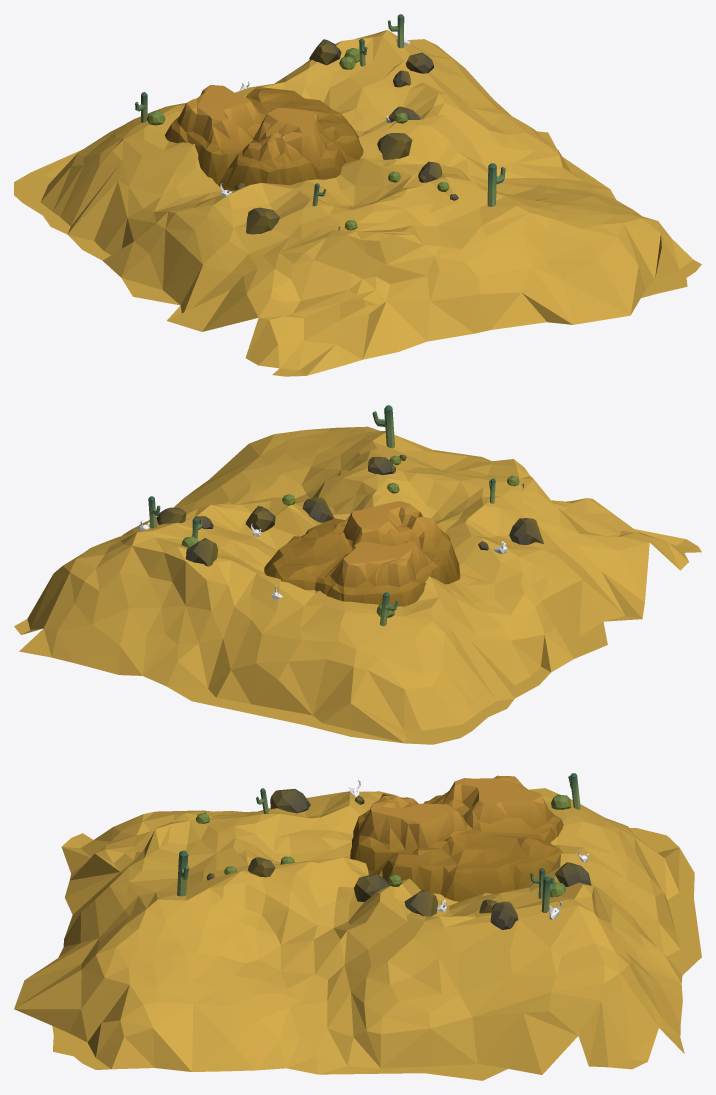
The model's file is Island_desert.fbx.
3 views of the same model, one above another, from view 1: azimuth 30°, elevation 25°; view 2: azimuth 150°, elevation 25°; view 3: azimuth 270°, elevation 25° (orthographic). The views are drawn at different scales.
Visible parts, largest first — view 1: Island_desert, Island_desert|ROCK|Dupli|2.2, Island_desert|ROCK|Dupli|6.2; view 2: Island_desert, Island_desert|ROCK|Dupli|6.2, Island_desert|ROCK|Dupli|3.2, Island_desert|ROCK|Dupli|2.2, Island_desert|ROCK|Dupli|9.2; view 3: Island_desert, Island_desert|ROCK|Dupli|6.2, Island_desert|ROCK|Dupli|9.2, Island_desert|ROCK|Dupli|2.2, Island_desert|ROCK|Dupli|3.2, Island_desert|ROCK|Dupli|5.2.
Boxes of the visible parts, box(x1,y1,x2,y2) form: Island_desert: box(14, 30, 701, 376); Island_desert|ROCK|Dupli|2.2: box(377, 133, 412, 159); Island_desert|ROCK|Dupli|6.2: box(246, 207, 279, 234); Island_desert: box(14, 426, 701, 744); Island_desert|ROCK|Dupli|6.2: box(509, 518, 543, 544); Island_desert|ROCK|Dupli|3.2: box(185, 538, 217, 566); Island_desert|ROCK|Dupli|2.2: box(302, 497, 334, 522); Island_desert|ROCK|Dupli|9.2: box(245, 506, 275, 532); Island_desert: box(14, 775, 701, 1080); Island_desert|ROCK|Dupli|6.2: box(270, 789, 310, 813); Island_desert|ROCK|Dupli|9.2: box(404, 889, 437, 916); Island_desert|ROCK|Dupli|2.2: box(354, 873, 389, 901); Island_desert|ROCK|Dupli|3.2: box(555, 862, 591, 886); Island_desert|ROCK|Dupli|5.2: box(490, 901, 518, 929).
Size of what is drawn, in the model's own units: 5742 by 1470 by 6411.
